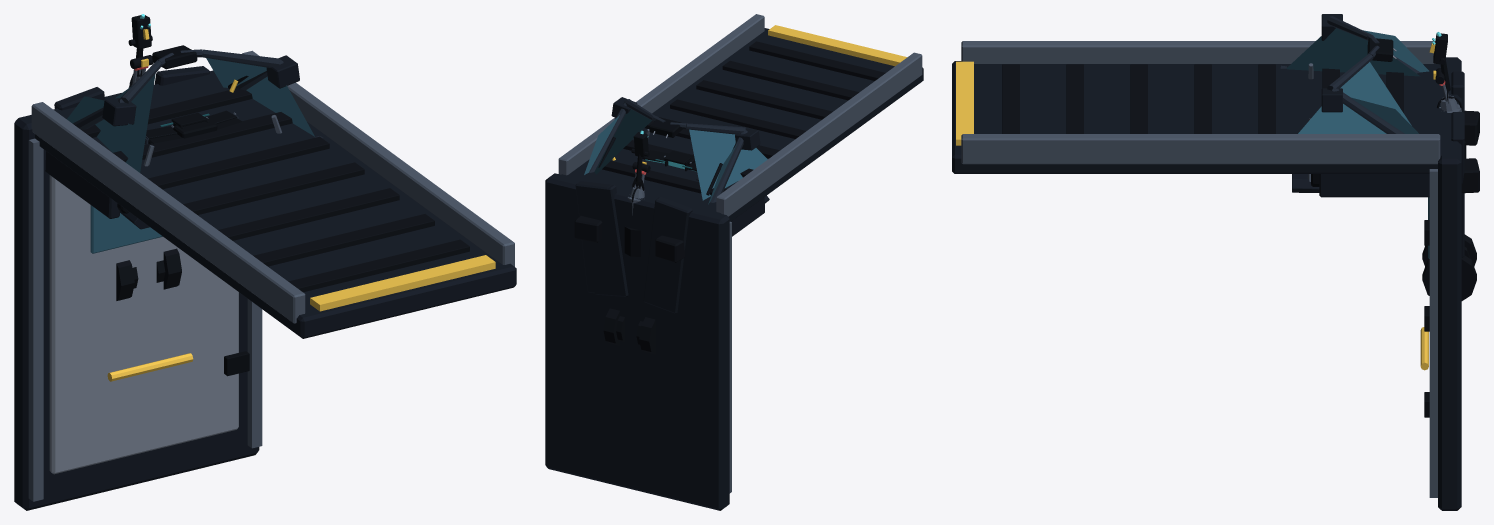
The model's file is runabout-cockpit.glb.
The picture shows the model from 3 angles, left to right: view 1: azimuth 30°, elevation 25°; view 2: azimuth 150°, elevation 25°; view 3: azimuth 270°, elevation 25°; orthographic projection. The views are drawn at different scales.
Parts seen in each view (by area): view 1: airlock-inner-panel, ramp-deck, airlock-pressure-plate, ramp-edge-starboard, ramp-edge-port, airlock-track-starboard, ramp-warning-strip, ramp-tread-2, ramp-tread-4, ramp-tread-3, ramp-tread-5, ramp-tread-6 (+14 smaller); view 2: airlock-pressure-plate, ramp-deck, ramp-edge-starboard, ramp-edge-port, landing-gear-nose-door, landing-gear-starboard-door, windscreen-cheek-starboard, ramp-warning-strip, ramp-tread-5, ramp-tread-4, ramp-tread-6, ramp-tread-3 (+14 smaller); view 3: ramp-deck, ramp-edge-port, airlock-pressure-plate, ramp-edge-starboard, airlock-track-port, windscreen-cheek-port, inner-sidewall-port, windscreen-cheek-starboard, ramp-warning-strip, ramp-tread-2, ramp-tread-3, ramp-tread-4 (+7 smaller).
Part boxes in pixels (x1=…): airlock-inner-panel: x1=49, y1=175, x2=238, y2=474; ramp-deck: x1=35, y1=76, x2=516, y2=338; airlock-pressure-plate: x1=14, y1=70, x2=259, y2=510; ramp-edge-starboard: x1=31, y1=102, x2=305, y2=323; ramp-edge-port: x1=242, y1=50, x2=514, y2=266; airlock-track-starboard: x1=28, y1=138, x2=43, y2=501; ramp-warning-strip: x1=310, y1=255, x2=495, y2=311; ramp-tread-2: x1=148, y1=136, x2=329, y2=189; ramp-tread-4: x1=218, y1=188, x2=399, y2=240; ramp-tread-3: x1=183, y1=162, x2=364, y2=214; ramp-tread-5: x1=253, y1=214, x2=434, y2=266; ramp-tread-6: x1=288, y1=239, x2=469, y2=292; airlock-pressure-plate: x1=545, y1=173, x2=729, y2=510; ramp-deck: x1=560, y1=28, x2=923, y2=221; ramp-edge-starboard: x1=716, y1=52, x2=922, y2=216; ramp-edge-port: x1=558, y1=14, x2=764, y2=175; landing-gear-nose-door: x1=579, y1=185, x2=628, y2=296; landing-gear-starboard-door: x1=643, y1=196, x2=692, y2=313; windscreen-cheek-starboard: x1=689, y1=129, x2=767, y2=200; ramp-warning-strip: x1=768, y1=25, x2=907, y2=66; ramp-tread-5: x1=722, y1=60, x2=858, y2=100; ramp-tread-4: x1=696, y1=80, x2=832, y2=119; ramp-tread-6: x1=749, y1=41, x2=885, y2=80; ramp-tread-3: x1=670, y1=99, x2=806, y2=138; ramp-deck: x1=952, y1=61, x2=1446, y2=173; ramp-edge-port: x1=961, y1=134, x2=1440, y2=164; airlock-pressure-plate: x1=1438, y1=57, x2=1461, y2=510; ramp-edge-starboard: x1=961, y1=41, x2=1435, y2=63; airlock-track-port: x1=1429, y1=169, x2=1437, y2=497; windscreen-cheek-port: x1=1298, y1=62, x2=1411, y2=133; inner-sidewall-port: x1=1319, y1=174, x2=1429, y2=197; windscreen-cheek-starboard: x1=1286, y1=28, x2=1420, y2=76; ramp-warning-strip: x1=956, y1=61, x2=973, y2=145; ramp-tread-2: x1=1258, y1=64, x2=1275, y2=133; ramp-tread-3: x1=1194, y1=64, x2=1211, y2=133; ramp-tread-4: x1=1130, y1=64, x2=1147, y2=133.
Size of the model in its own units: 1.05 by 1.99 by 2.23.
